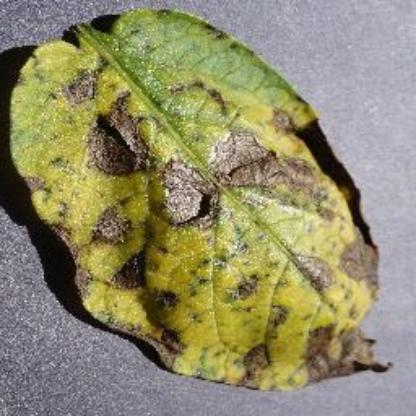Early-Blight: (2, 2, 400, 382)
